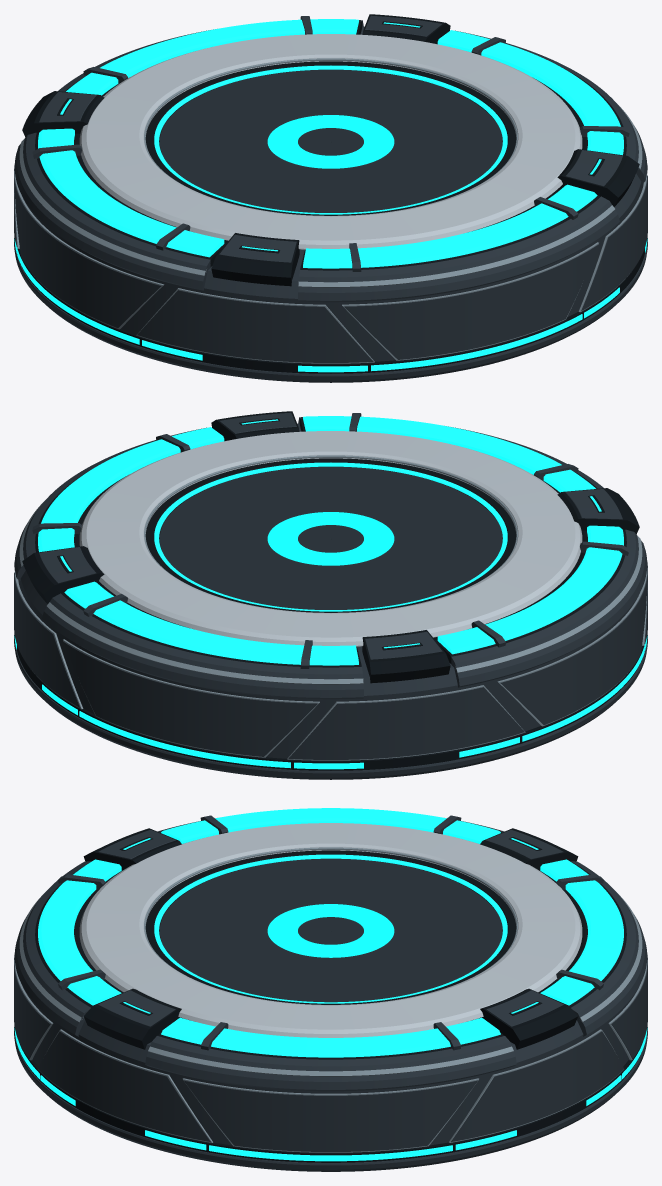
Rendered from Compact.glb.
3 views of the same model, one above another, from view 1: azimuth 30°, elevation 25°; view 2: azimuth 150°, elevation 25°; view 3: azimuth 270°, elevation 25° (orthographic).
Visible parts, largest first — view 1: Broad brushed steel crown, Recessed center face, Compact tapered center armor 3, Compact diagonal side wedge 2, Upper shoulder armor 4, Compact tapered center armor 2, Continuous structural core, Upper shoulder armor 3, Rounded lower bumper, Top cyan window 4.2, Lower continuous light channel, Recessed circular black gasket (+33 smaller); view 2: Broad brushed steel crown, Recessed center face, Compact tapered center armor 1, Compact diagonal side wedge 1, Upper shoulder armor 2, Compact tapered center armor 2, Continuous structural core, Upper shoulder armor 3, Rounded lower bumper, Top cyan window 2.2, Lower continuous light channel, Recessed circular black gasket (+33 smaller); view 3: Broad brushed steel crown, Recessed center face, Compact tapered center armor 0, Upper shoulder armor 1, Compact diagonal side wedge 0, Compact diagonal side wedge 3, Continuous structural core, Rounded lower bumper, Top cyan window 1.2, Lower continuous light channel, Recessed circular black gasket, Compact thick O (+35 smaller).
Boxes of the visible parts, left/top/right/bottom form: Broad brushed steel crown: left=79, top=34, right=582, bottom=249; Recessed center face: left=159, top=69, right=502, bottom=212; Compact tapered center armor 3: left=344, top=244, right=598, bottom=359; Compact diagonal side wedge 2: left=137, top=290, right=373, bottom=362; Upper shoulder armor 4: left=298, top=196, right=619, bottom=302; Compact tapered center armor 2: left=14, top=178, right=161, bottom=327; Continuous structural core: left=22, top=26, right=642, bottom=361; Upper shoulder armor 3: left=14, top=132, right=210, bottom=290; Rounded lower bumper: left=14, top=237, right=647, bottom=382; Top cyan window 4.2: left=357, top=203, right=568, bottom=267; Lower continuous light channel: left=17, top=248, right=644, bottom=373; Recessed circular black gasket: left=145, top=61, right=516, bottom=215; Broad brushed steel crown: left=79, top=431, right=582, bottom=646; Recessed center face: left=159, top=466, right=502, bottom=609; Compact tapered center armor 1: left=63, top=641, right=317, bottom=756; Compact diagonal side wedge 1: left=288, top=687, right=524, bottom=759; Upper shoulder armor 2: left=42, top=593, right=363, bottom=699; Compact tapered center armor 2: left=500, top=575, right=647, bottom=724; Continuous structural core: left=19, top=423, right=639, bottom=758; Upper shoulder armor 3: left=451, top=529, right=647, bottom=687; Rounded lower bumper: left=14, top=634, right=647, bottom=779; Top cyan window 2.2: left=93, top=600, right=304, bottom=664; Lower continuous light channel: left=17, top=645, right=644, bottom=770; Recessed circular black gasket: left=145, top=458, right=516, bottom=612; Broad brushed steel crown: left=79, top=823, right=582, bottom=1037; Recessed center face: left=159, top=858, right=502, bottom=1002; Compact tapered center armor 0: left=184, top=1080, right=477, bottom=1151; Upper shoulder armor 1: left=145, top=1036, right=516, bottom=1091; Compact diagonal side wedge 0: left=451, top=1031, right=623, bottom=1141; Compact diagonal side wedge 3: left=38, top=1031, right=210, bottom=1141; Continuous structural core: left=22, top=909, right=639, bottom=1145; Rounded lower bumper: left=14, top=1026, right=647, bottom=1171; Top cyan window 1.2: left=211, top=1028, right=450, bottom=1057; Lower continuous light channel: left=19, top=1043, right=642, bottom=1162; Recessed circular black gasket: left=145, top=850, right=516, bottom=1004; Compact thick O: left=267, top=904, right=394, bottom=957.
Size of the model in its own units: 0.719 by 0.147 by 0.719.
